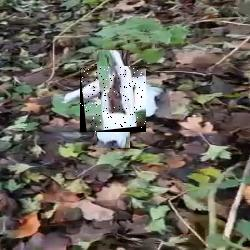restaffald: (80, 66, 147, 132)
